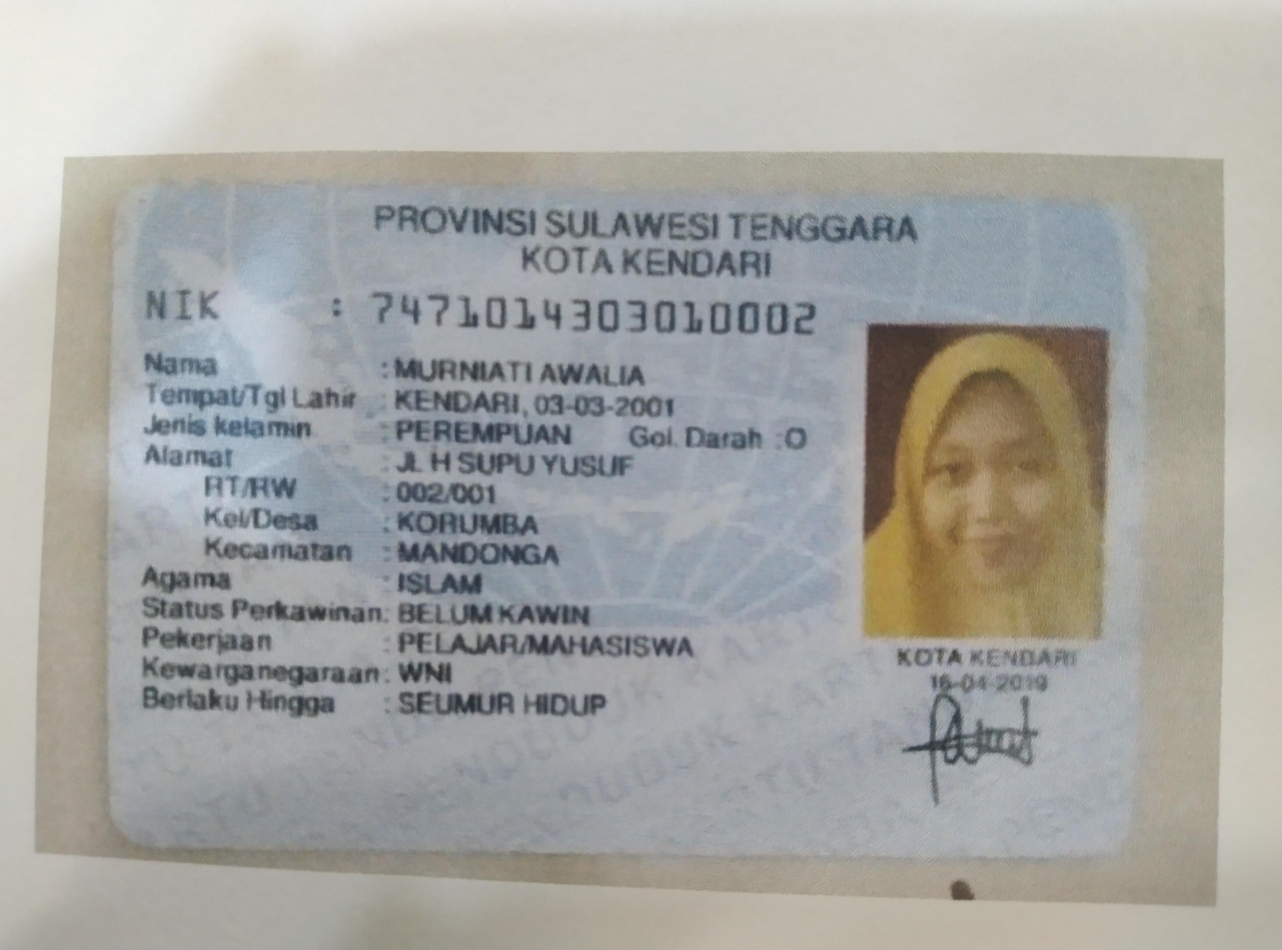ID-card: (120, 186, 1124, 853)
